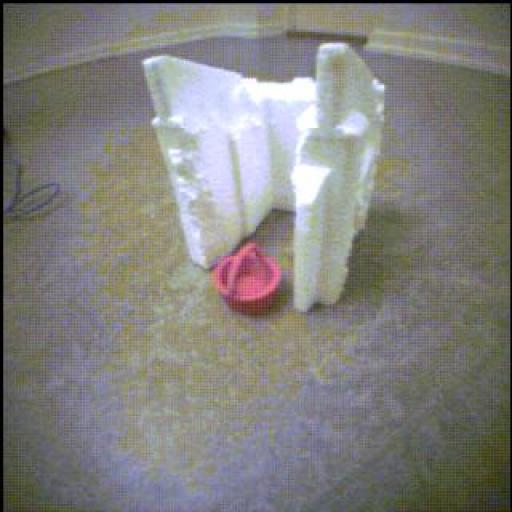Bucket: (214, 243, 283, 315)
